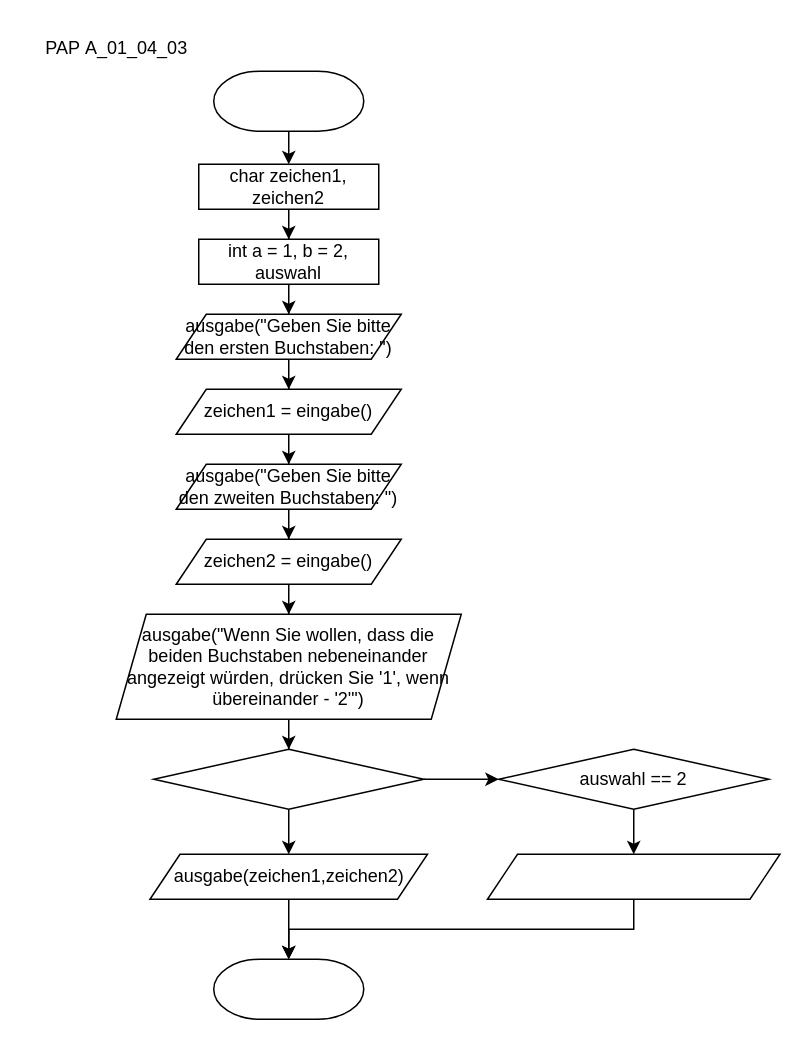
Some shapes in this 806 by 1046 pixel diagram are drawn without their labels. The shapes that lost their labels are listed below. From the top down, each one's centre as x and y in pixels, then its label:
At (288,100): "Start".
At (288,778): "auswahl == 1".
At (633,876): "ausgabe(zeichen1\n,zeichen2)".
At (288,988): "Ende".
